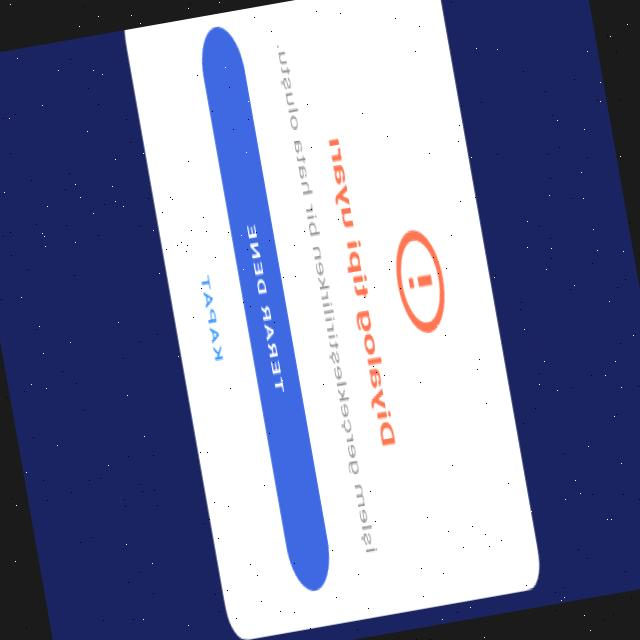QLabel: (266, 36, 384, 576), (321, 130, 400, 458), (238, 210, 292, 407), (190, 246, 232, 390)
VBtn: (194, 21, 336, 592), (144, 29, 280, 600)
VDialog: (121, 0, 542, 640)
VIcon: (382, 210, 456, 346)
